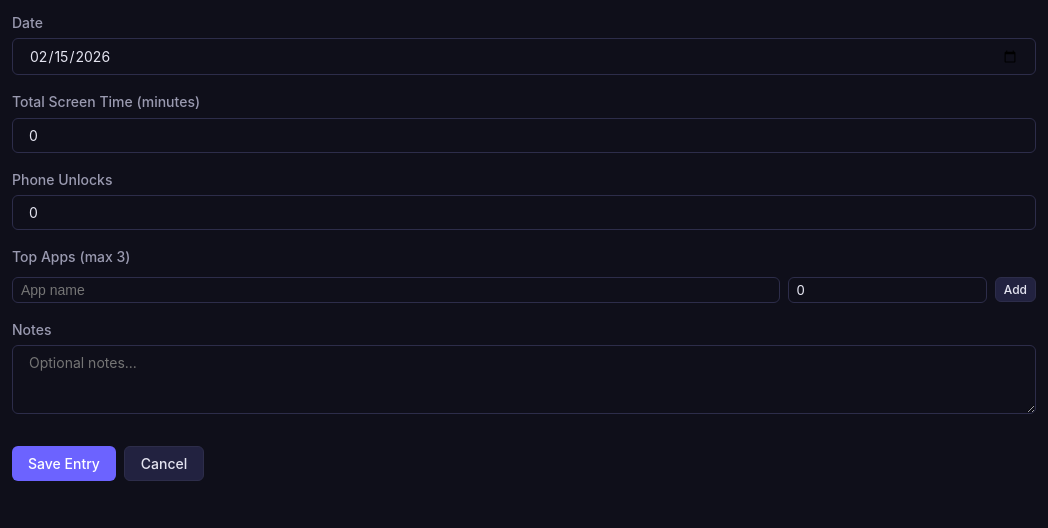
DigitalForm › supports adding apps (max 3)
The width and height of the screenshot is (1048, 528).
Type "Twitter" into the field with test id "app-name".
click(396, 290); type("Twitter")  # box [12,277,780,303]
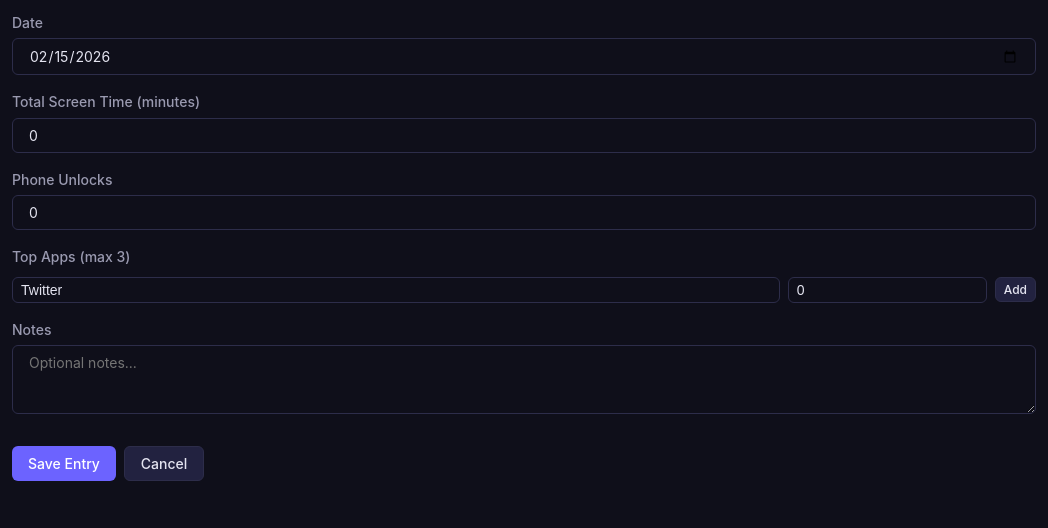
Replace the text in the number field with test id "app-minutes" with "45" at (887, 290), box [788,277,987,303]
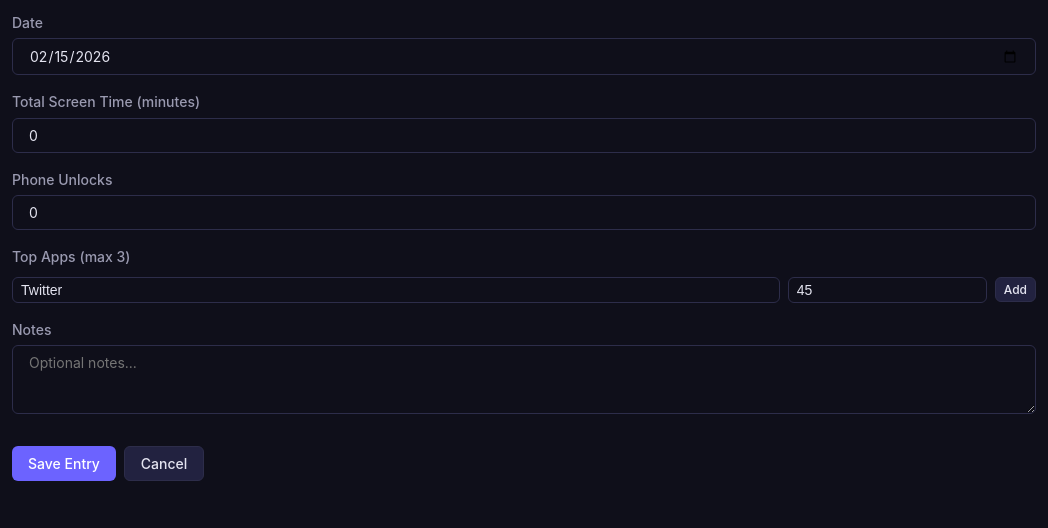
Click the button "Add".
click(1015, 290)  # box [995,277,1036,302]
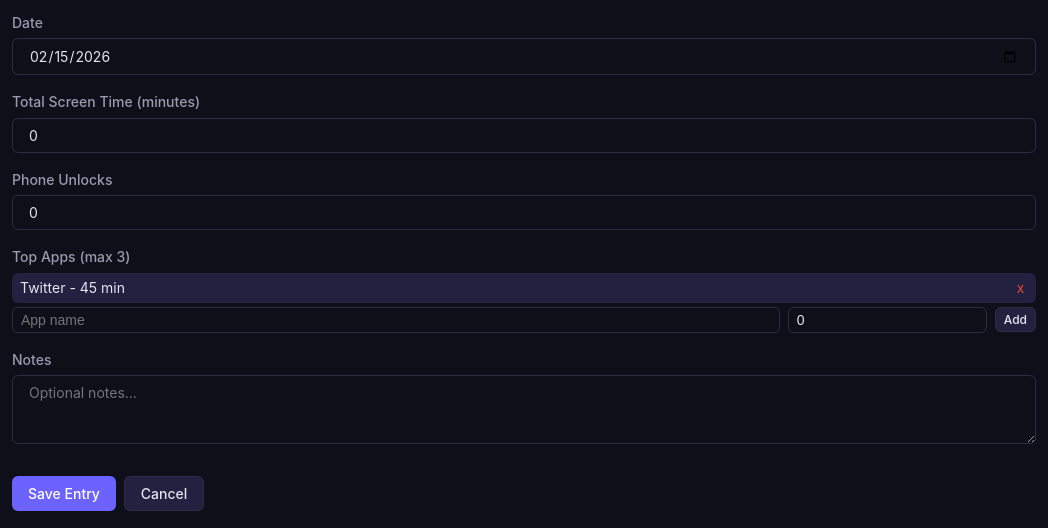
Now the text "Twitter" is shown, box [20,279,125,296]
Now the text "45 min" is shown, box [20,279,125,296]
